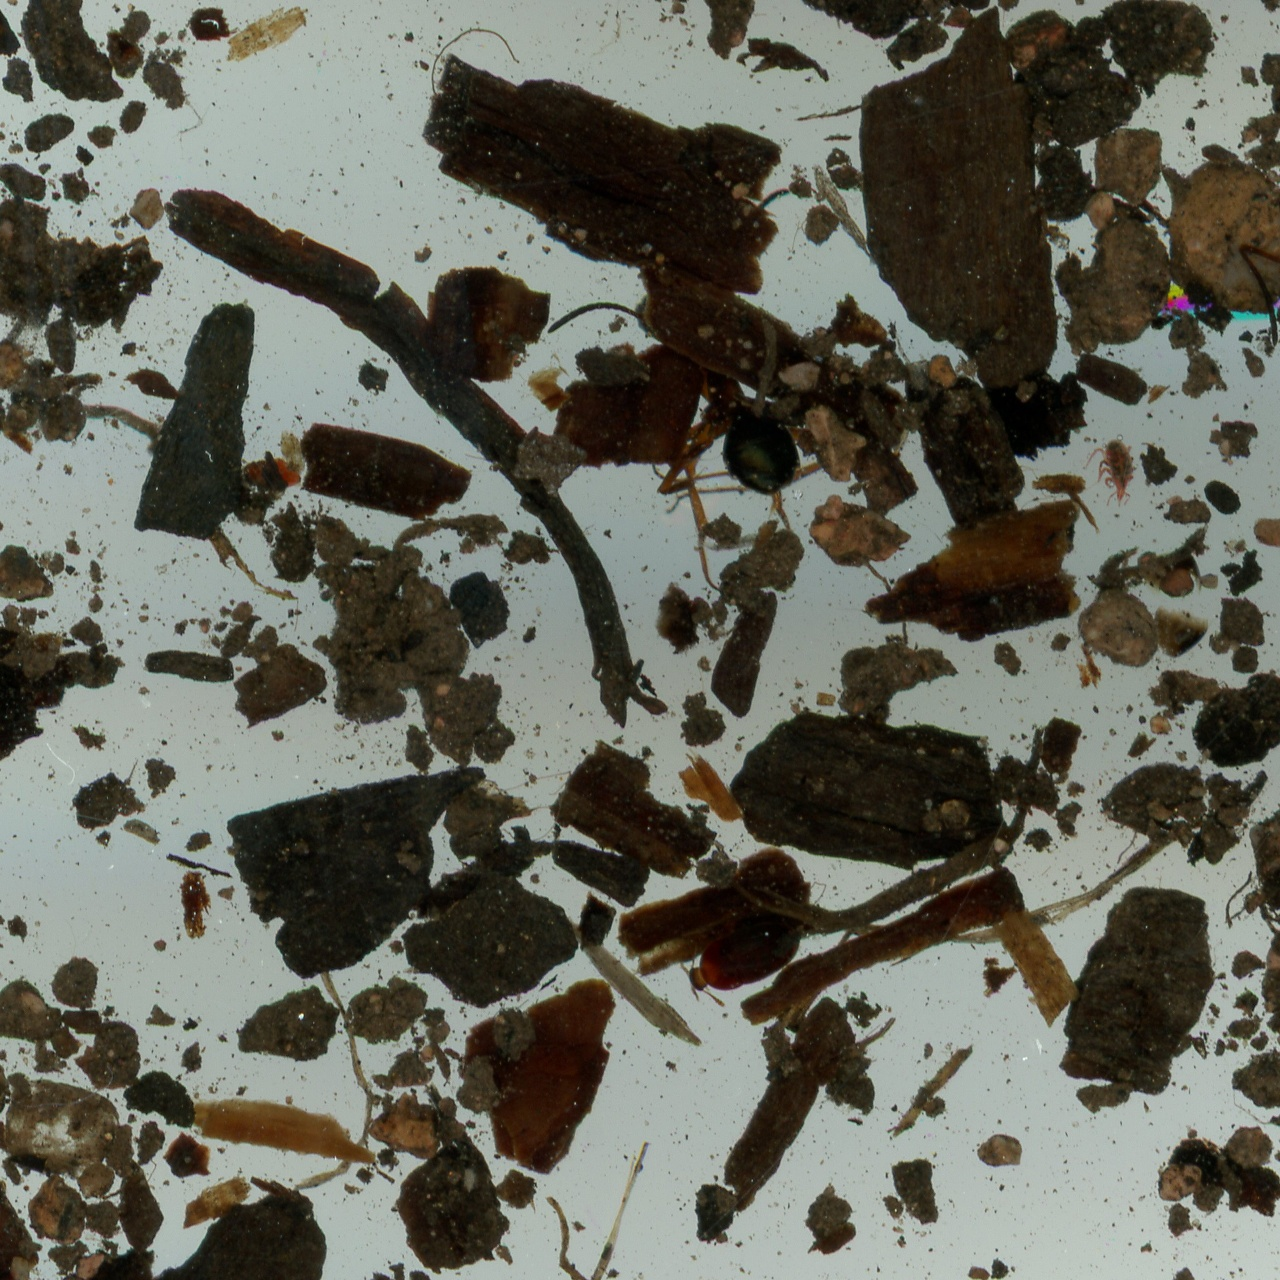arthropod: (488, 153, 980, 635), (666, 877, 816, 1030), (1237, 198, 1280, 353), (1081, 434, 1140, 510)
